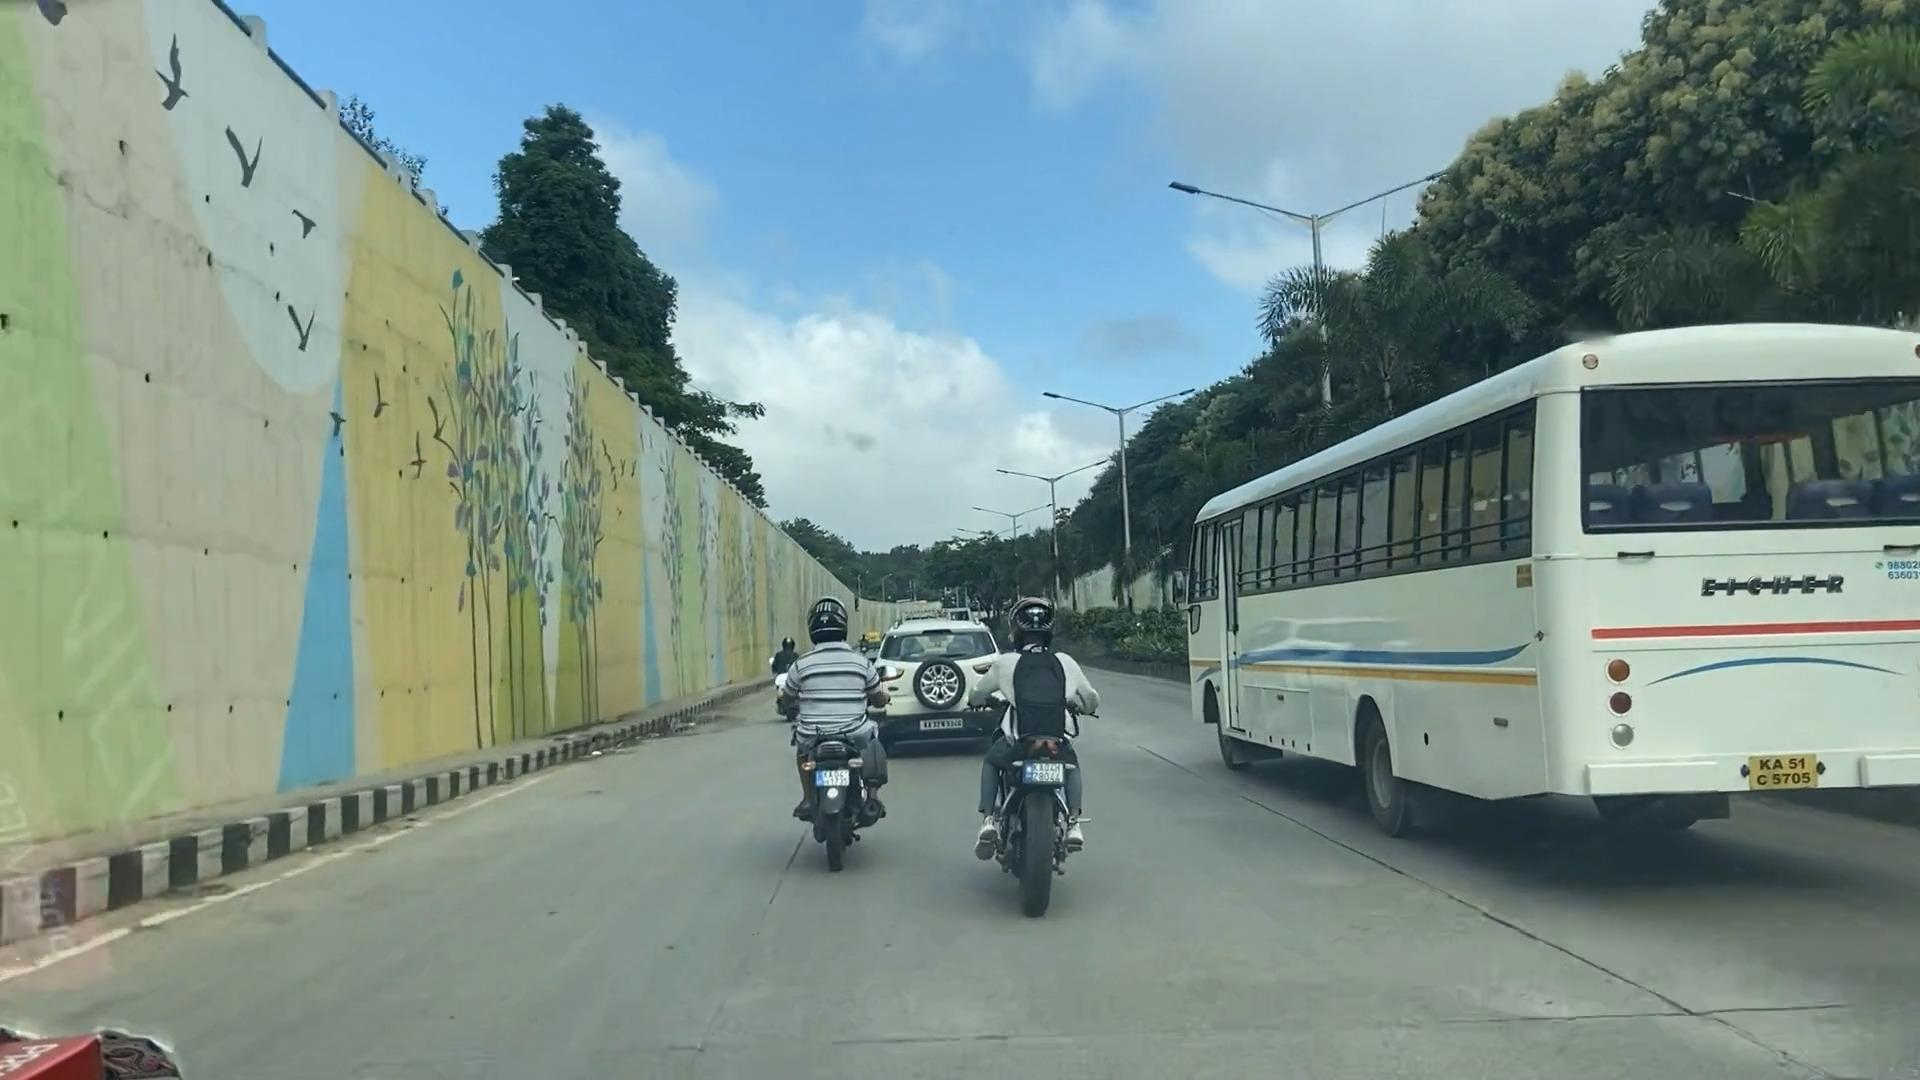HMV: (1208, 322, 1920, 843)
LMV: (980, 611, 1098, 907), (779, 621, 887, 864), (885, 611, 997, 731)
